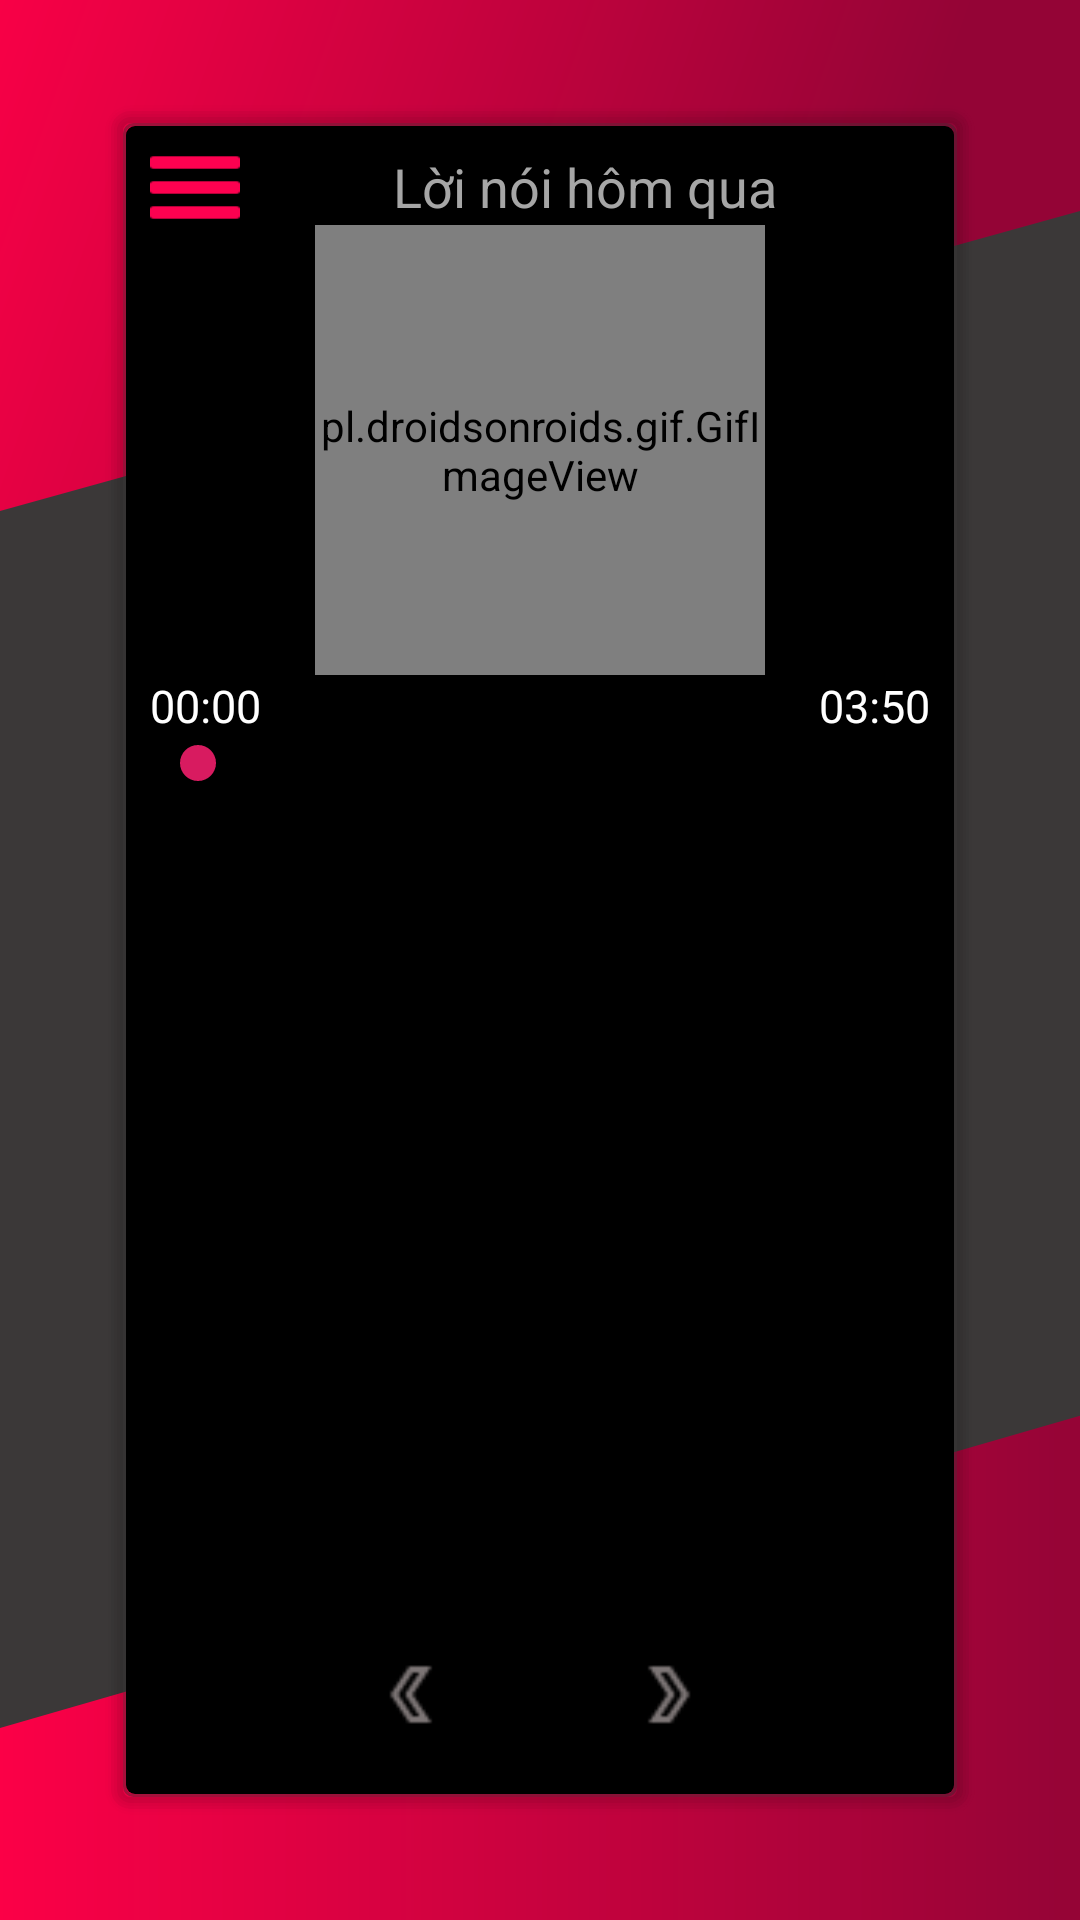

Where to tap for icons on this 1080px×1920px app screen, as (x,y):
left: (411,1694)
menu: (195,187)
right: (669,1694)
